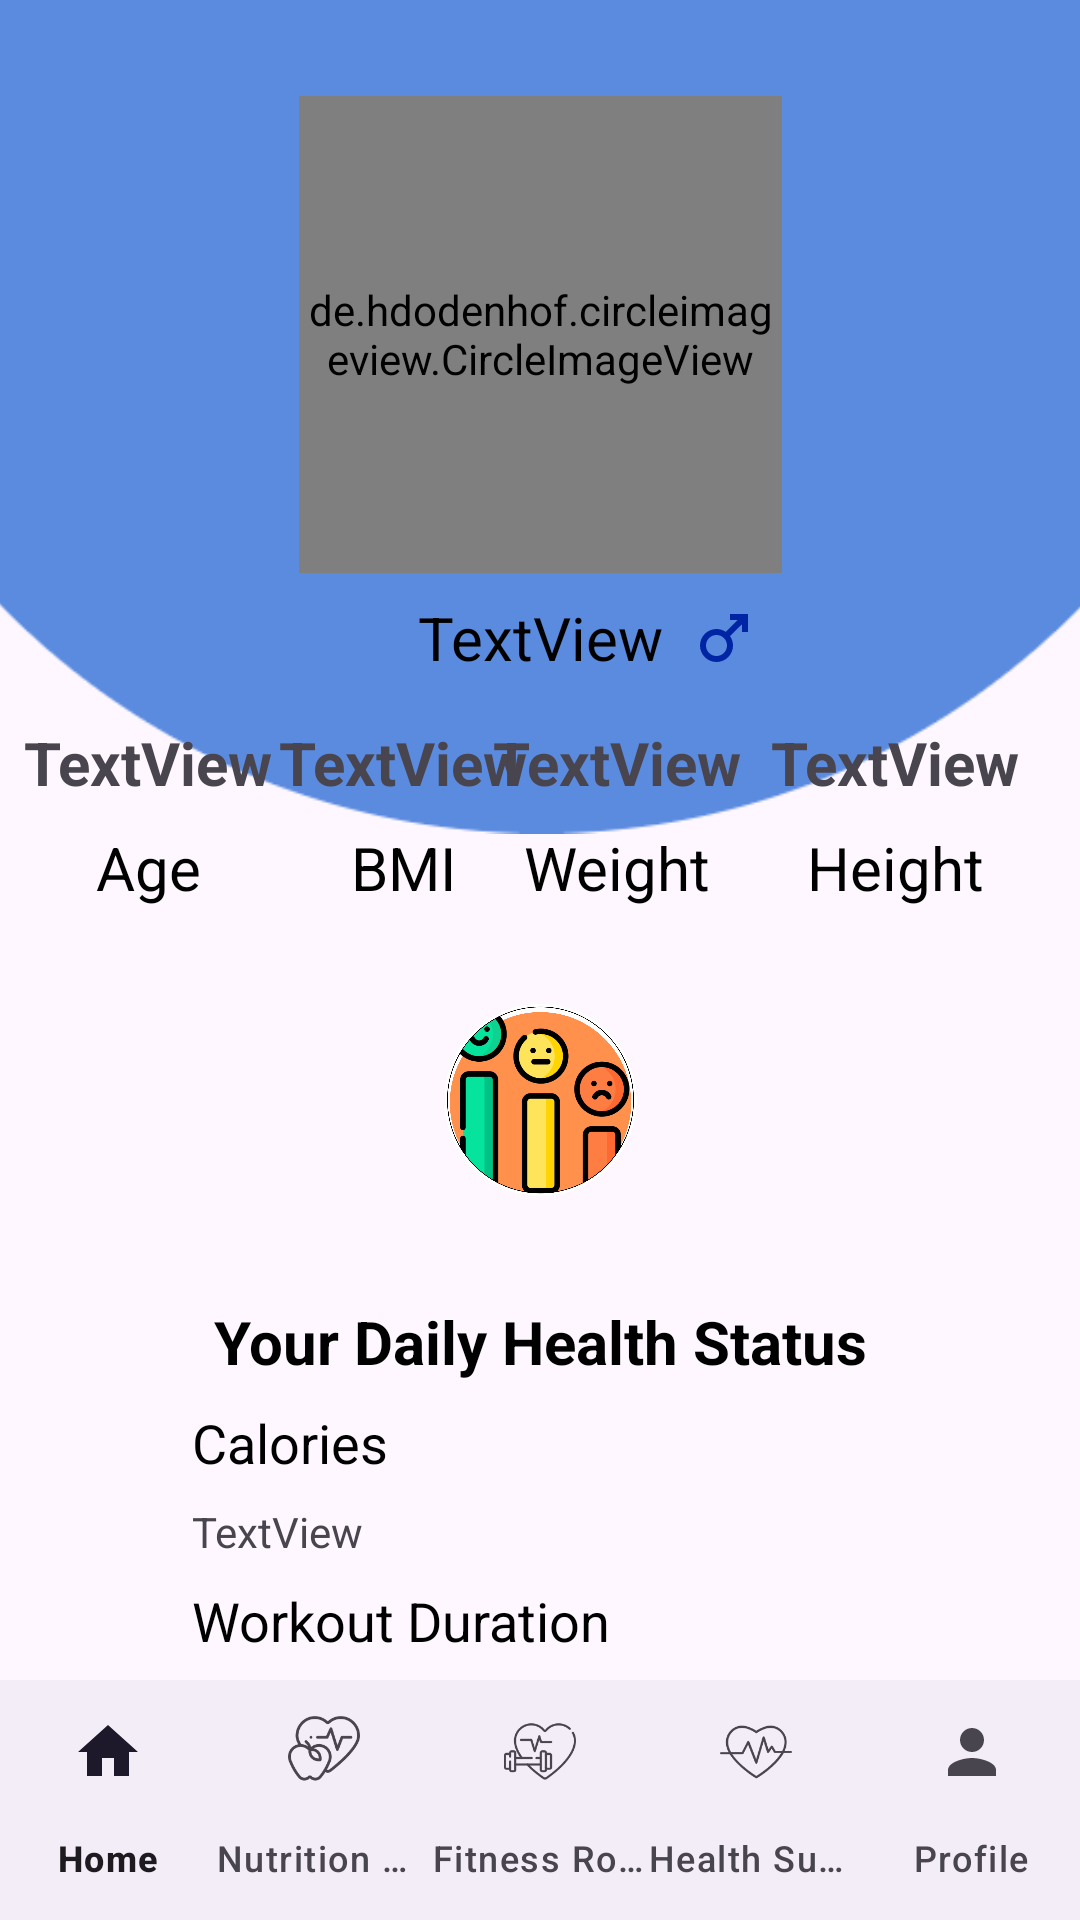

Where icons sit on this 1080 x 1920 app screen, as (x1, y1, x2, y2):
emotion: (447, 1007, 634, 1194)
male: (700, 614, 748, 662)
